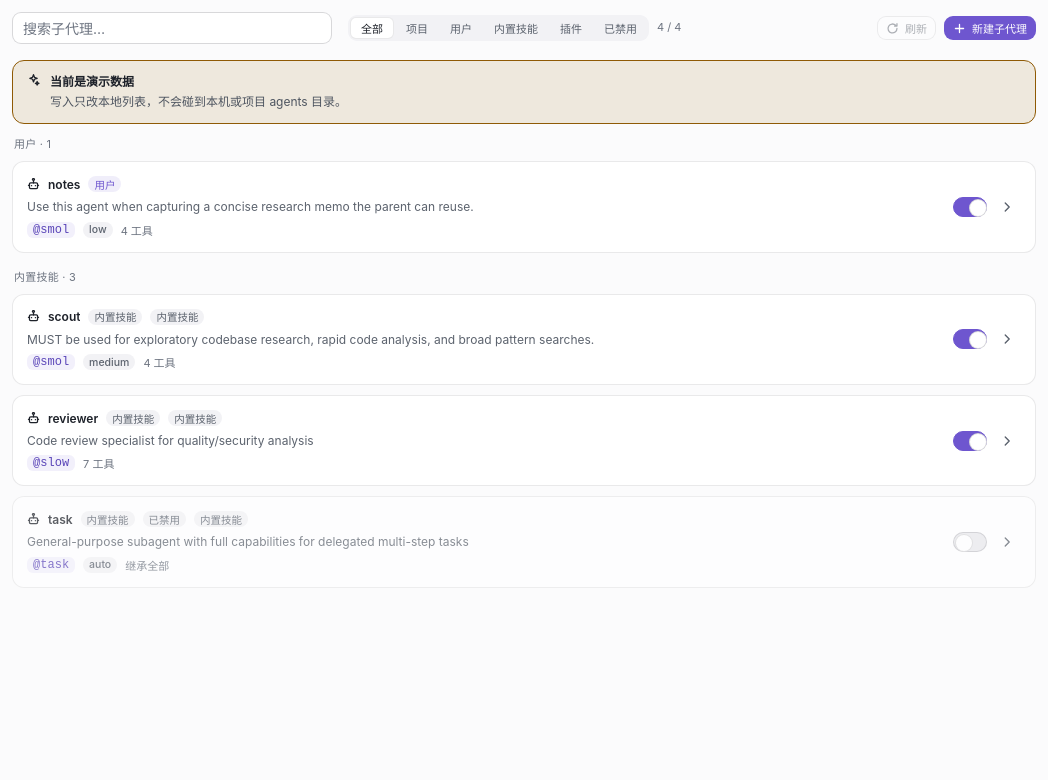
SubagentsPanel create editor › shows a required-field error on the viewport when save is clicked with an empty draft
Click the button "新建子代理" at coordinates (990, 28), box [944, 16, 1036, 40]
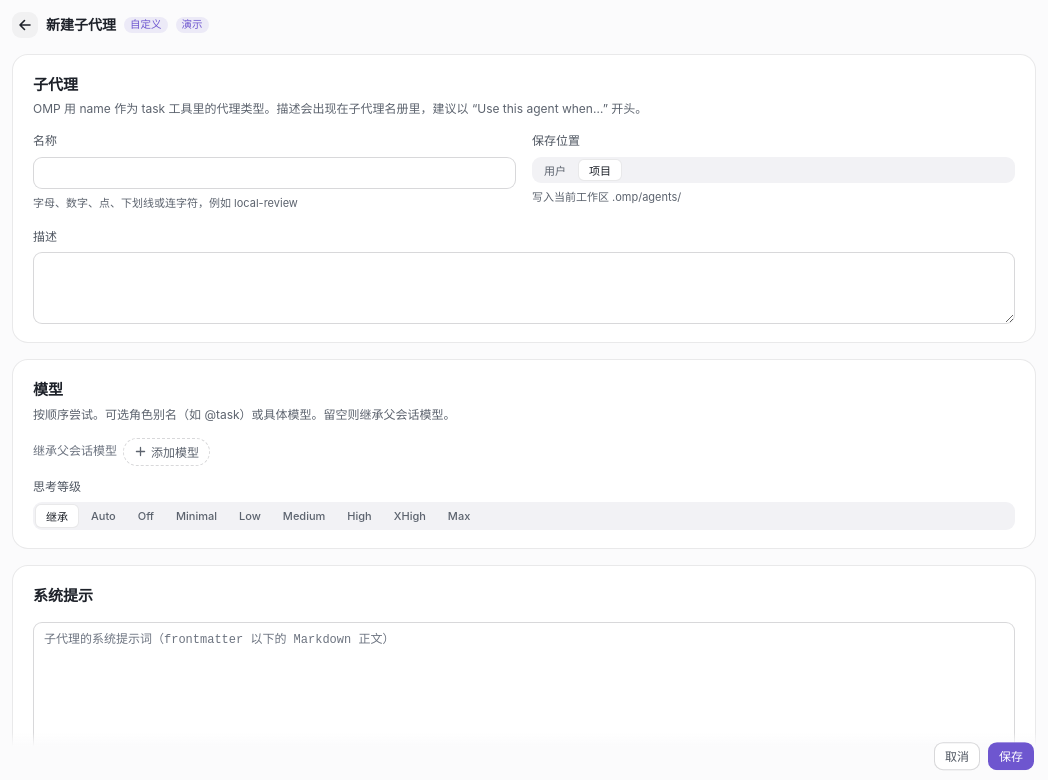
Click the button "保存" at coordinates (1011, 756), box [988, 742, 1034, 770]
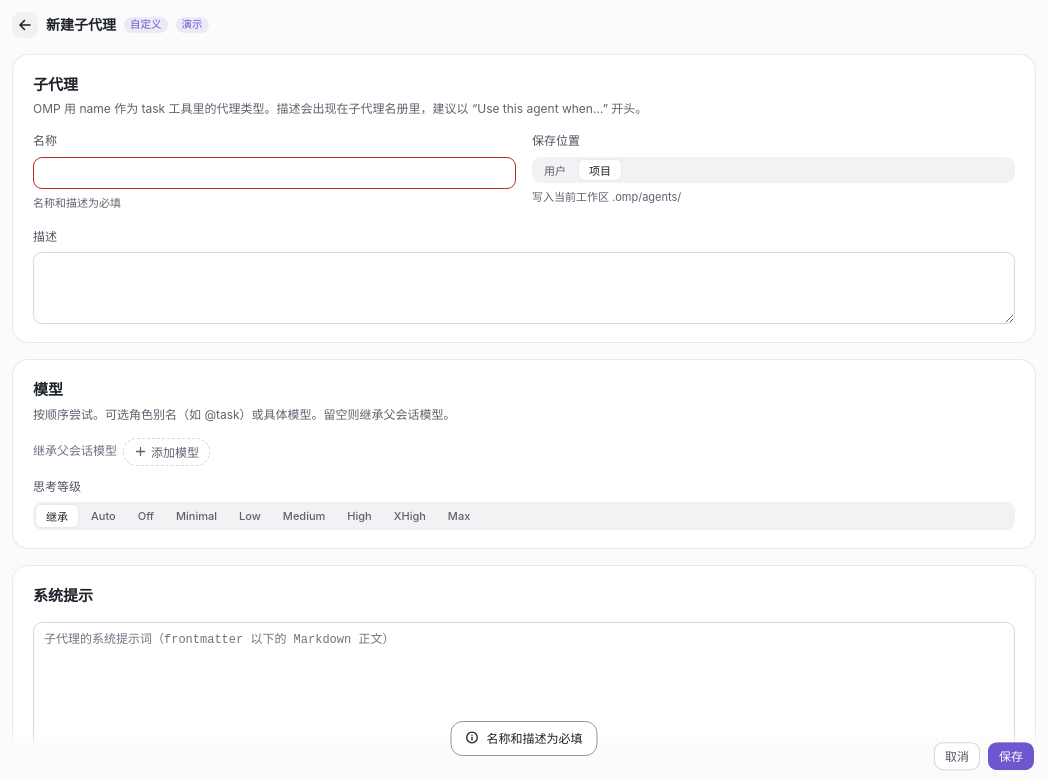
Check: the button "保存" is shown, box [988, 742, 1034, 770]
Check: the message "名称和描述为必填" next to "写入当前工作区 .omp/agents/" is shown, box [33, 196, 121, 210]
Check: the 2nd message "名称和描述为必填" is shown, box [450, 721, 598, 756]
